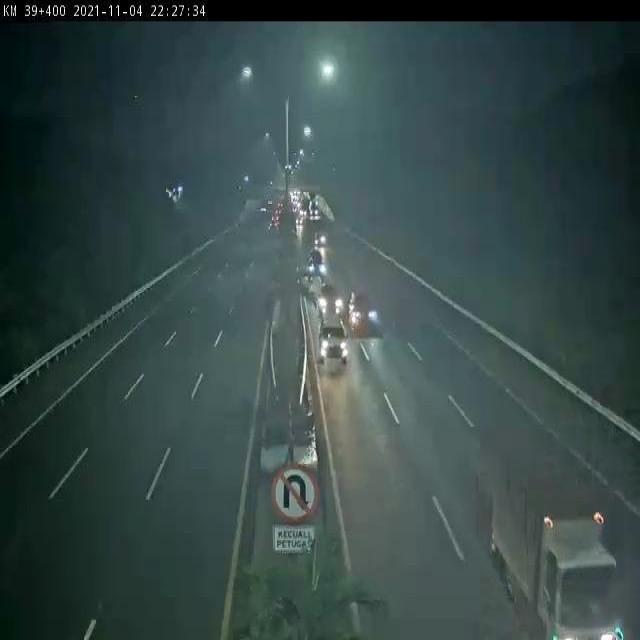car: (348, 290, 378, 334), (321, 316, 348, 361), (318, 284, 342, 313)
truck-xl-: (486, 434, 624, 640)
